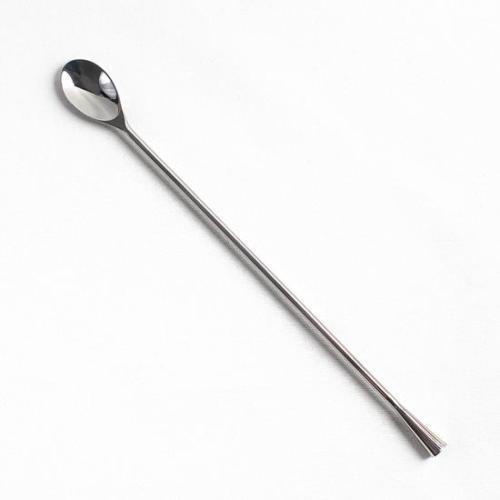Spoon: (60, 58, 446, 458)
